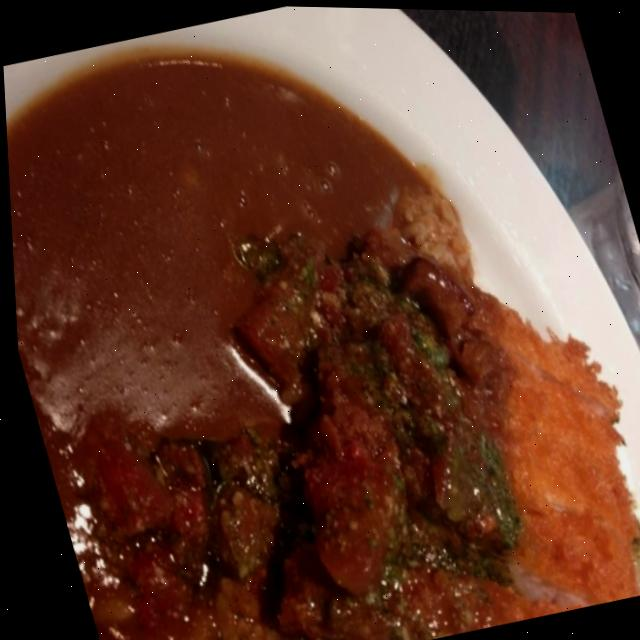鸡肉料理 含炸鸡: (7, 170, 640, 640)
